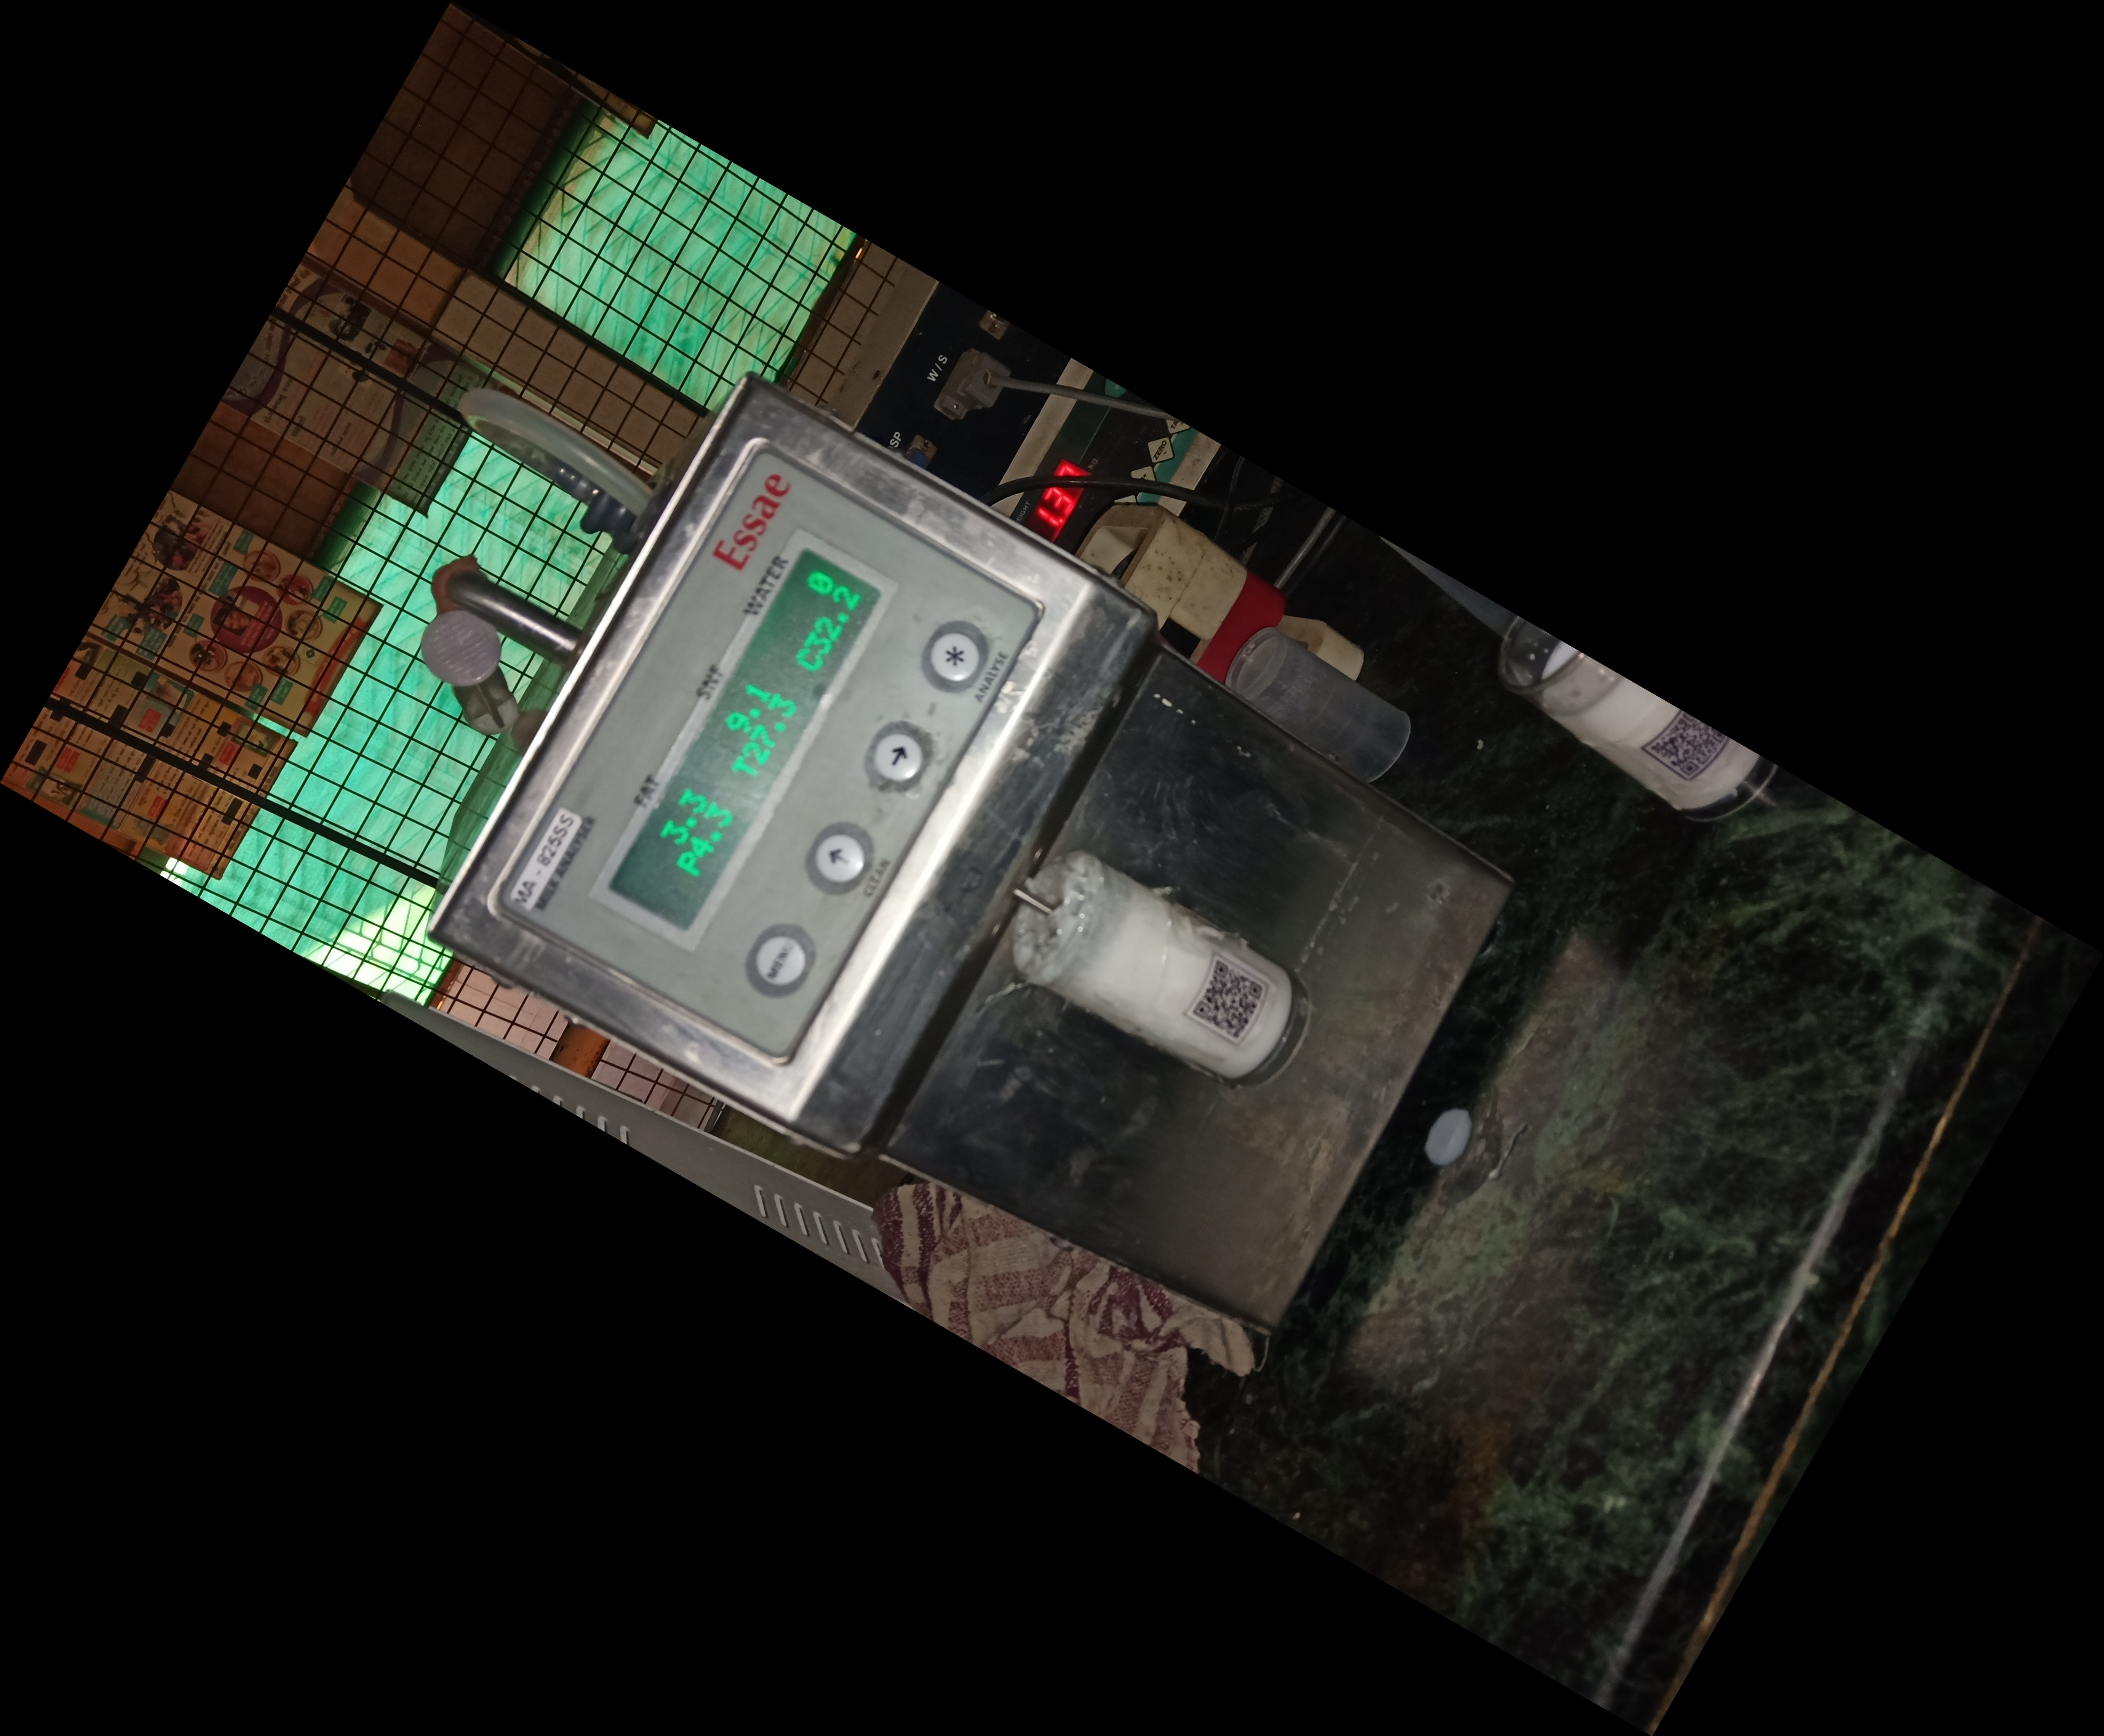lcd: (605, 545, 900, 961)
qr: (1173, 933, 1276, 1055), (1627, 699, 1742, 802)
